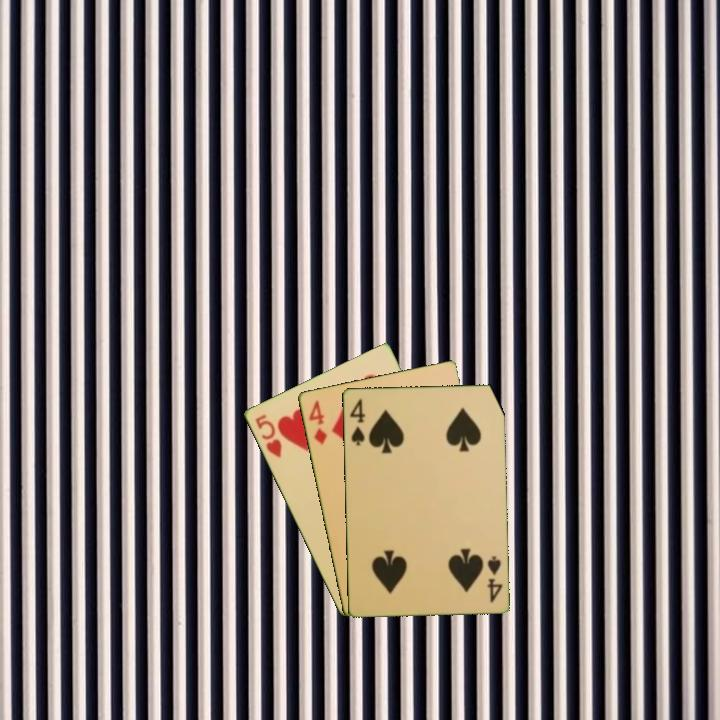4d: (305, 396, 330, 447)
4s: (483, 552, 505, 605), (346, 395, 367, 448)
5h: (251, 411, 284, 461)
